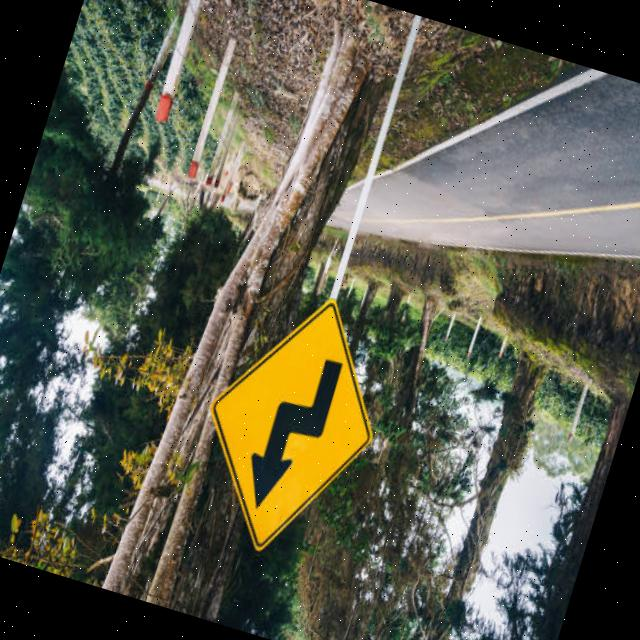left_sharp_curve: (180, 274, 406, 572)
